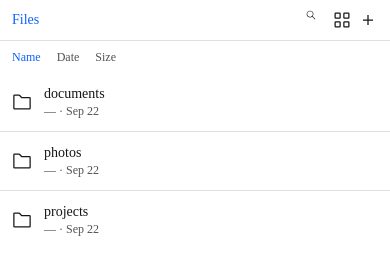
Scenario: FilesScreen › descends into a folder and lists what is inside it
The width and height of the screenshot is (390, 253).
Click the text "documents" at (74, 94), box [44,86,105,101]
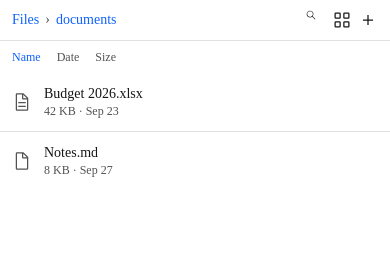
Result: the text "Notes.md" is shown at [44,145,98,160]
Result: the text "Budget 2026.xlsx" is shown at [44,86,143,101]
